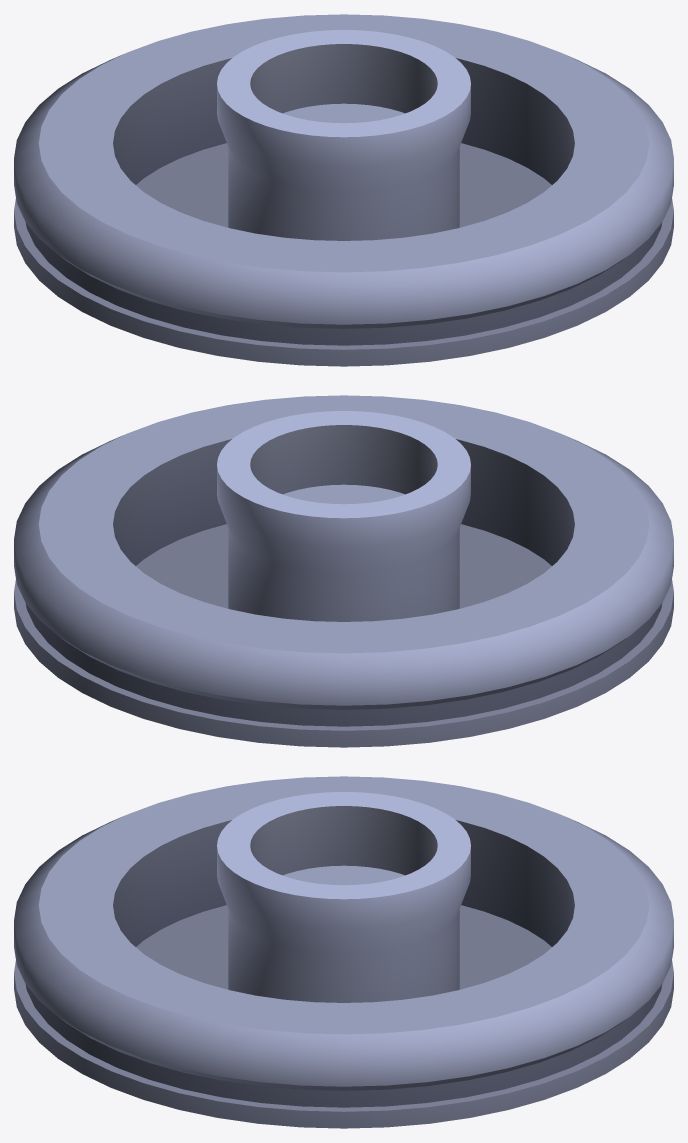
The model's file is fountain-round-detail_lev2.glb.
3 views of the same model, one above another, from view 1: azimuth 30°, elevation 25°; view 2: azimuth 150°, elevation 25°; view 3: azimuth 270°, elevation 25° (orthographic).
Visible parts, largest first — view 1: fountain-round-detail_lev2; view 2: fountain-round-detail_lev2; view 3: fountain-round-detail_lev2.
Part boxes in pixels (x1,y1,x2,y2): fountain-round-detail_lev2: (14,14,673,366); fountain-round-detail_lev2: (14,395,673,747); fountain-round-detail_lev2: (14,776,673,1128).
Size of the model in its own units: 6.78 by 1.63 by 6.78.
Materials: 1 (1 with a texture image).
